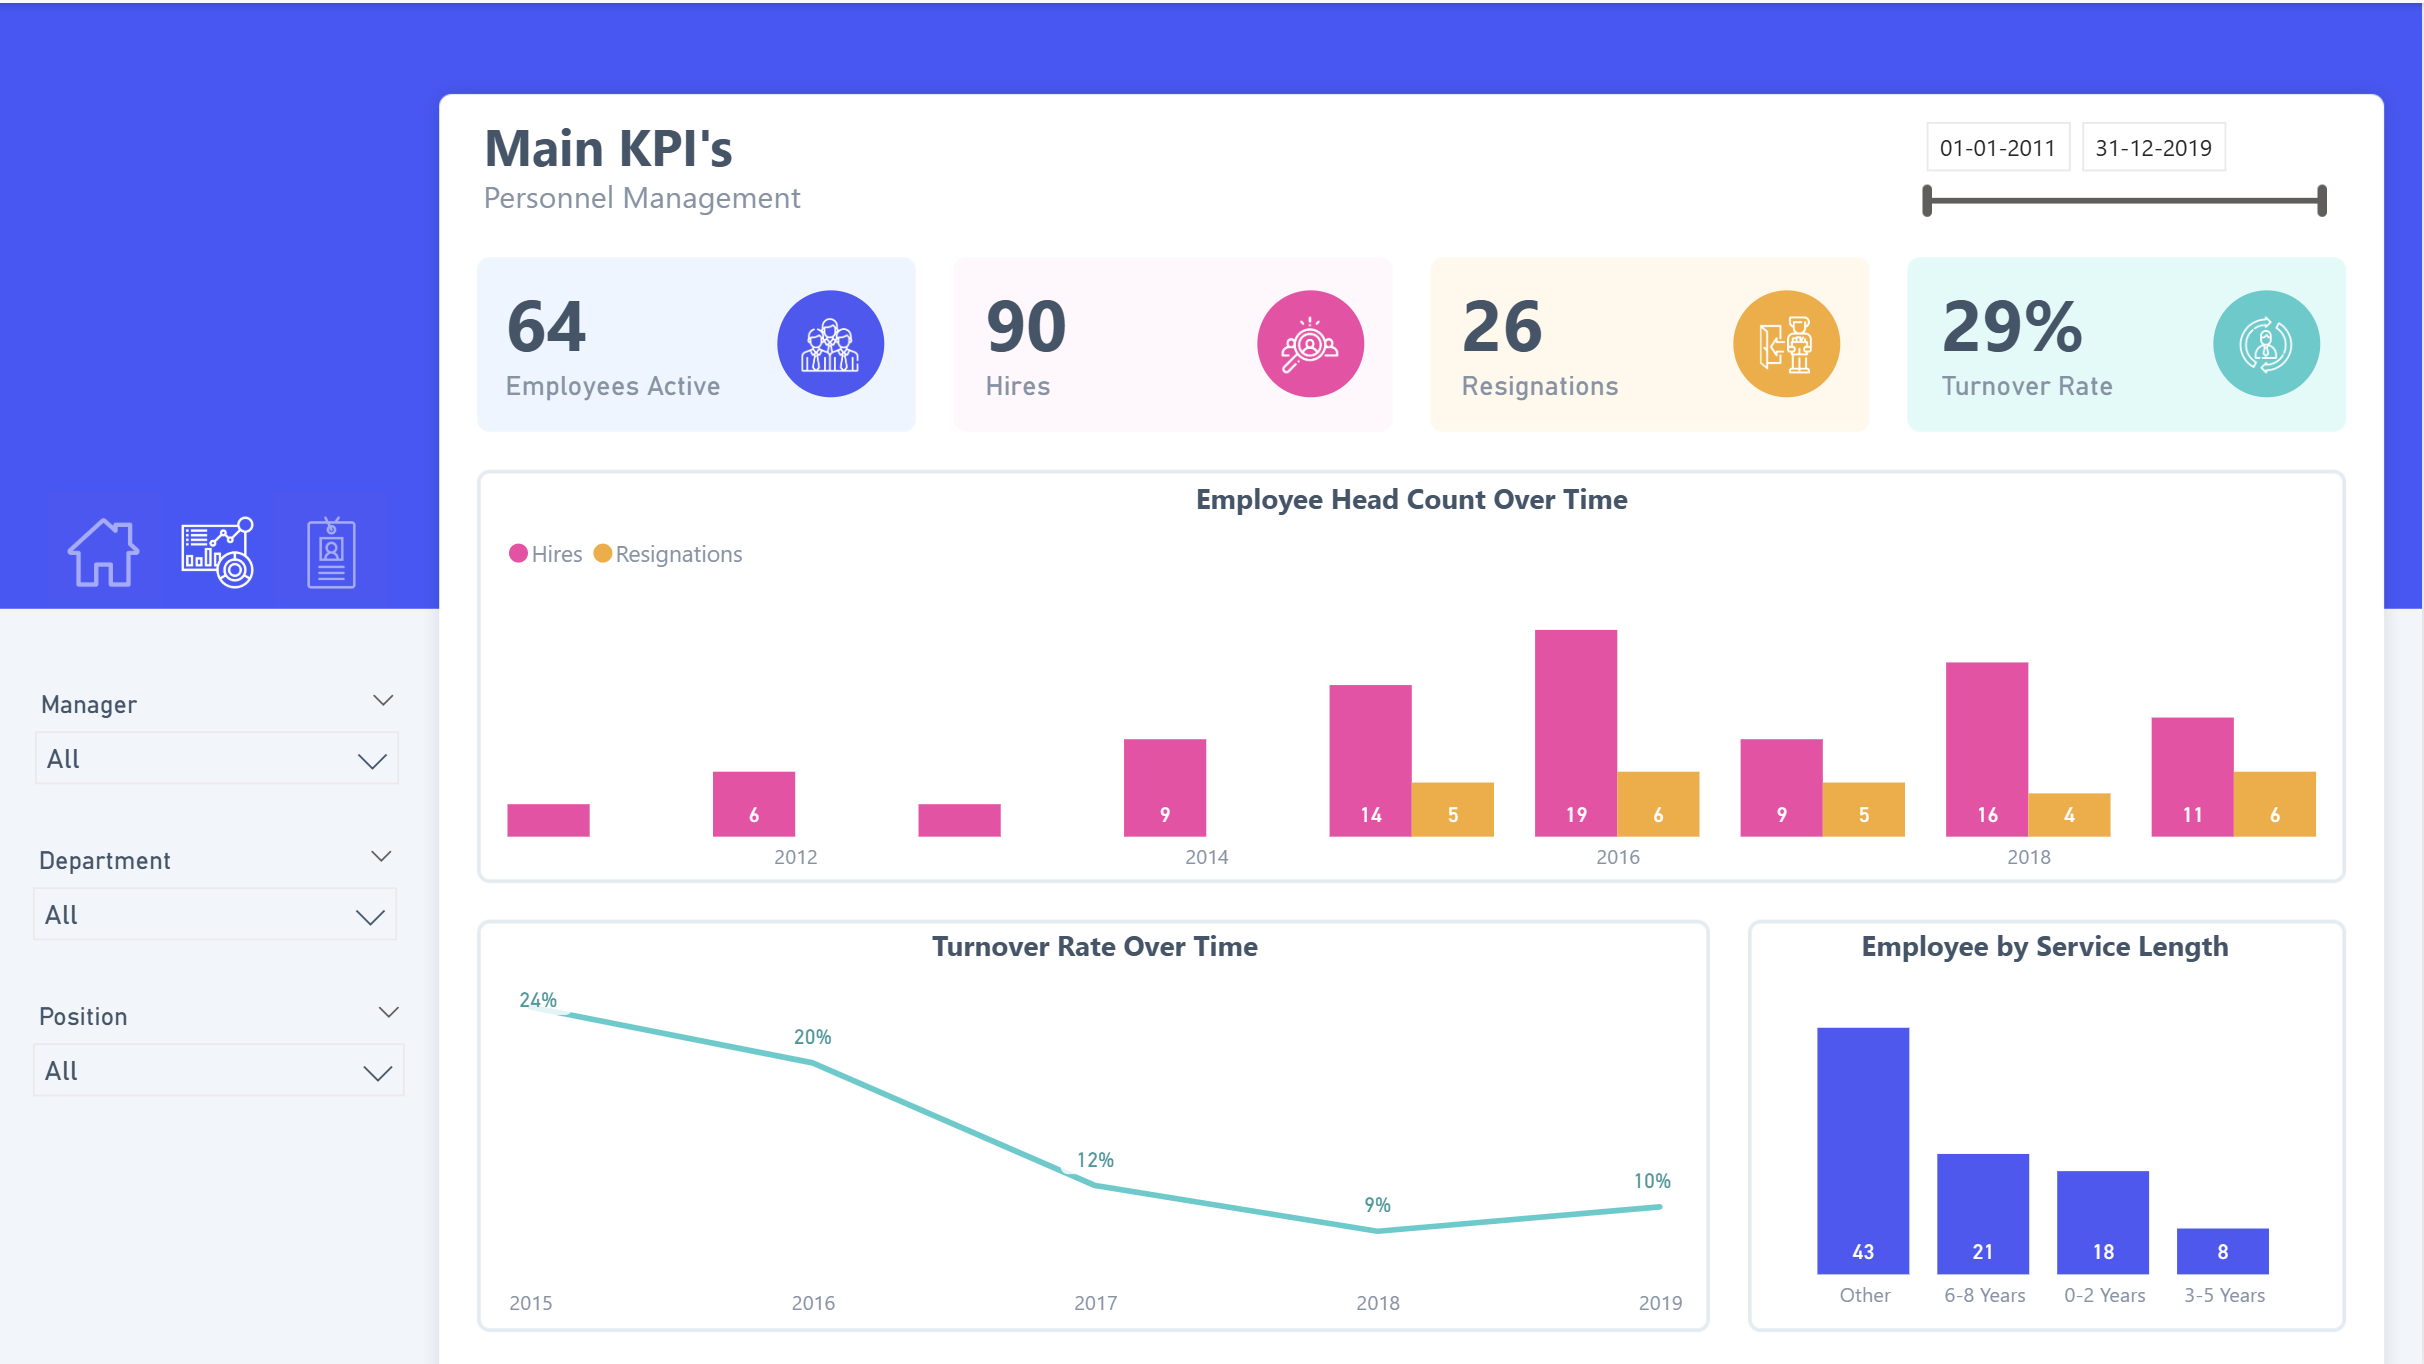

This screenshot's page, from the dashboard's own definition file:
{"tool":"powerbi","page":{"name":"Overview","canvas":[1280,720],"ordinal":0},"visuals":[{"type":"multiRowCard","fields":{"Values":["_Measures.Employees Active"]},"box":[265,138,164,84],"z":0,"group":"g4"},{"type":"multiRowCard","fields":{"Values":["_Measures.Hires"]},"box":[518,138,164,84],"z":0,"group":"g1"},{"type":"multiRowCard","fields":{"Values":["_Measures.Terminations"]},"box":[768,138,164,84],"z":0,"group":"g2"},{"type":"multiRowCard","fields":{"Values":["_Measures.Turnover Terminations"]},"box":[1022,138,164,84],"z":0,"group":"g3"},{"type":"slicer","fields":{"Values":["fEmployee.Manager"]},"box":[11.2,356.7,212,81.9],"z":0},{"type":"basicShape","box":[410,149,62,62],"z":1000,"group":"g4"},{"type":"basicShape","box":[663,149,62,62],"z":1000,"group":"g1"},{"type":"basicShape","box":[913,149,62,62],"z":1000,"group":"g2"},{"type":"basicShape","box":[1167,149,62,62],"z":1000,"group":"g3"},{"type":"lineClusteredColumnComboChart","title":"Employee Head Count Over Time","fields":{"Category":["dDate.Date.Variation.Date Hierarchy.Year","dDate.Month Name"],"Y":["_Measures.Hires","_Measures.Terminations"]},"box":[265.6,251,963.3,216],"z":1000},{"type":"image","box":[421,160,40,40],"z":2000,"group":"g4"},{"type":"image","box":[674,160,40,40],"z":2000,"group":"g1"},{"type":"image","box":[924,160,40,40],"z":2000,"group":"g2"},{"type":"image","box":[1178,160,40,40],"z":2000,"group":"g3"},{"type":"lineChart","title":"Turnover Rate Over Time","fields":{"Y":["_Measures.Turnover Terminations"],"Category":["dDate.Year","dDate.Month Name"]},"box":[266,485.8,629.4,216],"z":2000},{"type":"clusteredColumnChart","title":"Employee by Service Length","fields":{"Category":["fEmployee.Service Length (groups)"],"Y":["_Measures.Hires"]},"box":[931.2,486,300.7,211.6],"z":3000},{"type":"textbox","box":[252.6,51.6,529.8,55.4],"z":4000},{"type":"textbox","box":[252.6,85.1,529.8,42.5],"z":5000},{"type":"slicer","fields":{"Values":["fEmployee.Position"]},"box":[11,521,216,82],"z":6000},{"type":"slicer","fields":{"Values":["fEmployee.Department"]},"box":[11,439,212,82],"z":7000},{"type":"slicer","fields":{"Values":["dDate.Date"]},"box":[1006.1,52.3,236.7,75.7],"z":8000},{"type":"group","id":"g1","title":"Contratações","box":[518,138,207,84],"z":9000},{"type":"group","id":"g2","title":"Desligamentos","box":[768,138,207,84],"z":10000},{"type":"group","id":"g3","title":"Turnover","box":[1022,138,207,84],"z":11000},{"type":"group","id":"g4","title":"Colaboradores Ativos","box":[265,138,207,84],"z":12000},{"type":"actionButton","title":"BT Explorar Contratações","box":[665,151,58,58],"z":13000},{"type":"actionButton","title":"BT Explorar Desligamentos","box":[915,151,58,58],"z":14000},{"type":"actionButton","title":"BT Explorar Colab. Ativos","box":[412,151,58,58],"z":15000},{"type":"basicShape","box":[88,258,60,60],"z":16000},{"type":"image","box":[34,266,48,48],"z":17000},{"type":"image","box":[94,266,48,48],"z":18000},{"type":"image","box":[154,266,48,48],"z":19000},{"type":"basicShape","box":[28,258,60,60],"z":20000},{"type":"basicShape","box":[148,258,60,60],"z":21000},{"type":"actionButton","box":[28,260,60,60],"z":22000},{"type":"actionButton","box":[88,260,60,60],"z":23000},{"type":"actionButton","box":[148,260,60,60],"z":24000}]}

Visuals, with their boxes in screenshot pixels (x1, y1, x2, y2), scaled from the page's 1280x720 canvas onto the 2424x1364 screenshot:
multiRowCard - _Measures.Employees Active: bbox=[502, 261, 812, 421]
multiRowCard - _Measures.Hires: bbox=[981, 261, 1292, 421]
multiRowCard - _Measures.Terminations: bbox=[1454, 261, 1765, 421]
multiRowCard - _Measures.Turnover Terminations: bbox=[1935, 261, 2246, 421]
slicer - fEmployee.Manager: bbox=[21, 676, 423, 831]
basicShape: bbox=[776, 282, 894, 400]
basicShape: bbox=[1256, 282, 1373, 400]
basicShape: bbox=[1729, 282, 1846, 400]
basicShape: bbox=[2210, 282, 2327, 400]
"Employee Head Count Over Time" lineClusteredColumnComboChart: bbox=[503, 476, 2327, 885]
image: bbox=[797, 303, 873, 379]
image: bbox=[1276, 303, 1352, 379]
image: bbox=[1750, 303, 1826, 379]
image: bbox=[2231, 303, 2307, 379]
"Turnover Rate Over Time" lineChart: bbox=[504, 920, 1696, 1330]
"Employee by Service Length" clusteredColumnChart: bbox=[1763, 921, 2333, 1322]
textbox: bbox=[478, 98, 1482, 203]
textbox: bbox=[478, 161, 1482, 242]
slicer - fEmployee.Position: bbox=[21, 987, 430, 1142]
slicer - fEmployee.Department: bbox=[21, 832, 422, 987]
slicer - dDate.Date: bbox=[1905, 99, 2354, 242]
"Contratações" group: bbox=[981, 261, 1373, 421]
"Desligamentos" group: bbox=[1454, 261, 1846, 421]
"Turnover" group: bbox=[1935, 261, 2327, 421]
"Colaboradores Ativos" group: bbox=[502, 261, 894, 421]
"BT Explorar Contratações" actionButton: bbox=[1259, 286, 1369, 396]
"BT Explorar Desligamentos" actionButton: bbox=[1733, 286, 1843, 396]
"BT Explorar Colab. Ativos" actionButton: bbox=[780, 286, 890, 396]
basicShape: bbox=[167, 489, 280, 602]
image: bbox=[64, 504, 155, 595]
image: bbox=[178, 504, 269, 595]
image: bbox=[292, 504, 383, 595]
basicShape: bbox=[53, 489, 167, 602]
basicShape: bbox=[280, 489, 394, 602]
actionButton: bbox=[53, 493, 167, 606]
actionButton: bbox=[167, 493, 280, 606]
actionButton: bbox=[280, 493, 394, 606]
